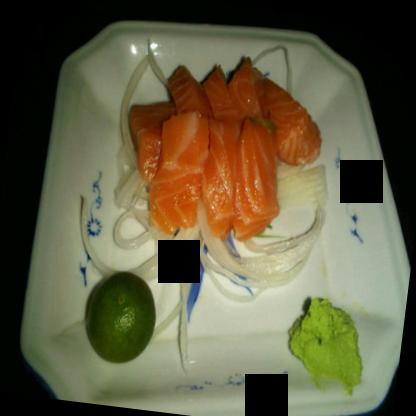salmon: (115, 51, 327, 249)
